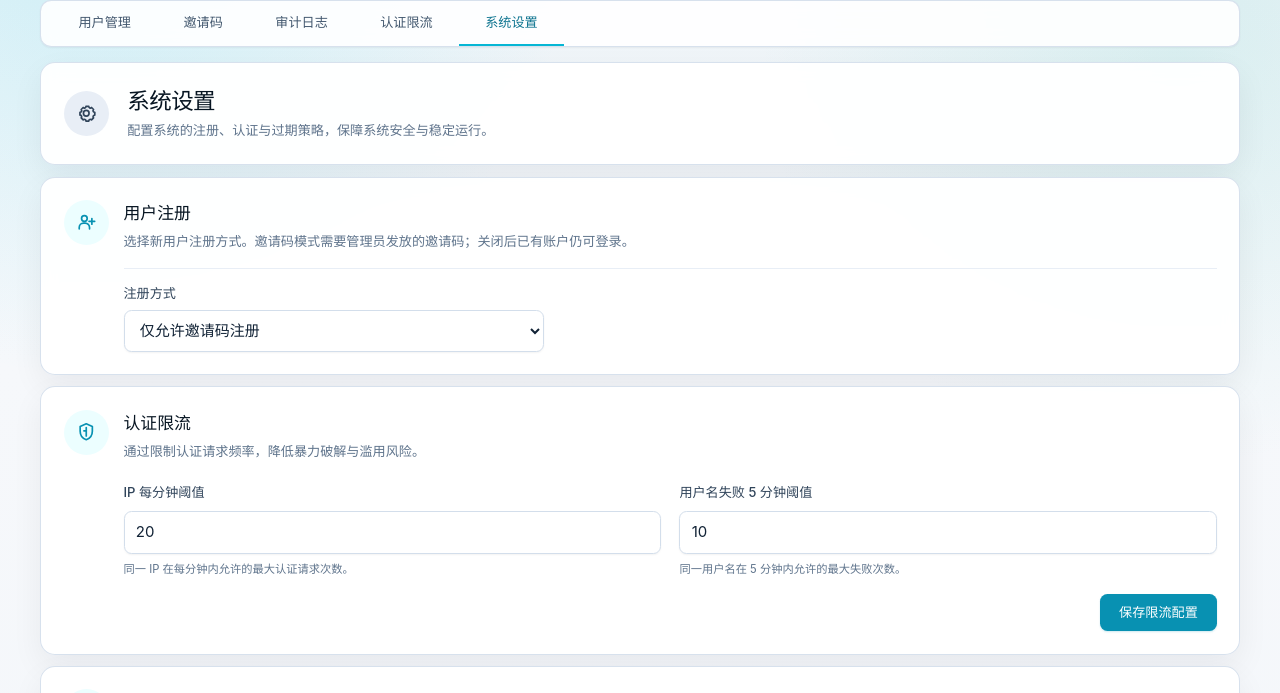
Scenario: switches registration modes by atomically saving both policy fields
Select "开放注册" in the dropdown labelled "注册方式": (334, 331) top-left (124, 310), bottom-right (544, 352)
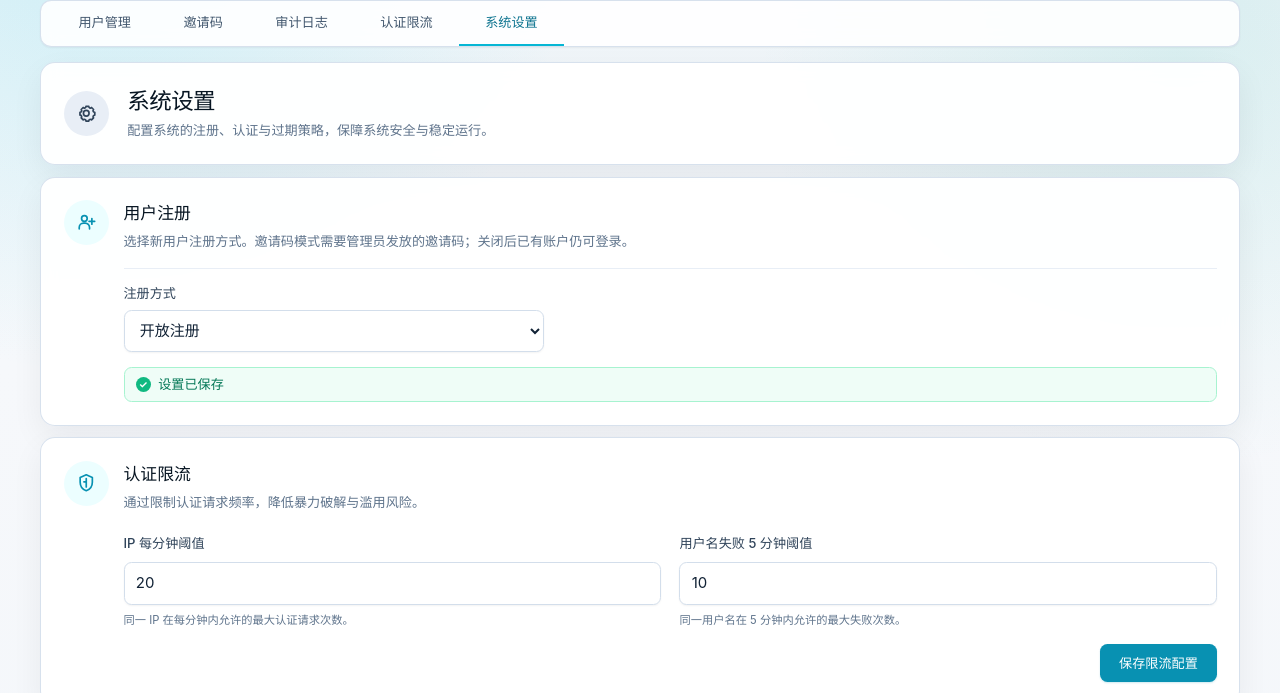
Check: the text "设置已保存" is shown, box top-left (158, 376), bottom-right (224, 392)
